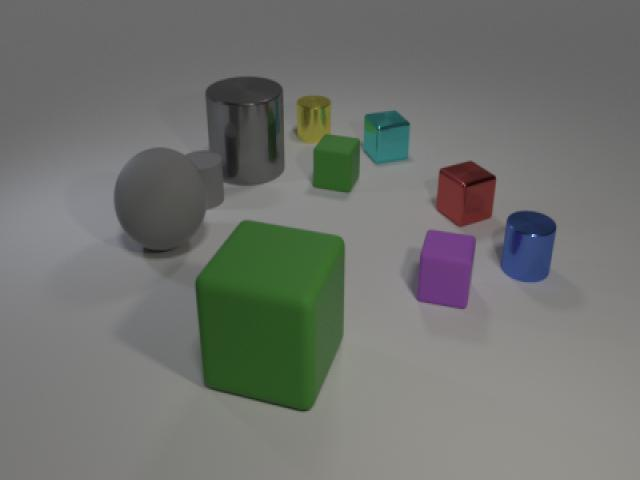cylinder: (197, 66, 291, 188), (499, 207, 561, 290), (177, 146, 231, 208), (293, 90, 335, 144)
round ball: (110, 143, 209, 253)
